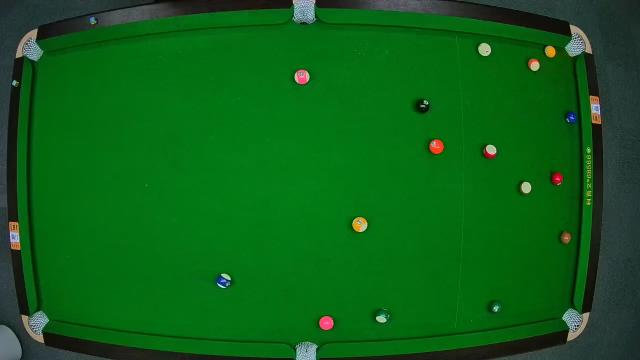bag1: (24, 40, 40, 62)
bag2: (292, 2, 316, 22)
bag3: (566, 34, 584, 56)
bag4: (27, 310, 49, 336)
bag5: (295, 342, 319, 360)
bag6: (562, 308, 584, 332)
ball0: (477, 42, 493, 58)
ball1: (543, 43, 557, 60)
ball10: (216, 272, 234, 290)
ball11: (482, 144, 500, 160)
ball12: (295, 68, 311, 86)
ball13: (524, 58, 540, 72)
ball14: (373, 308, 391, 324)
ball15: (518, 180, 532, 197)
ball2: (565, 110, 579, 126)
ball3: (550, 170, 564, 187)
ball4: (318, 314, 334, 332)
ball5: (428, 136, 444, 156)
ball6: (488, 300, 504, 314)
ball7: (559, 229, 571, 244)
ball8: (414, 96, 430, 112)
ball9: (352, 216, 368, 234)
